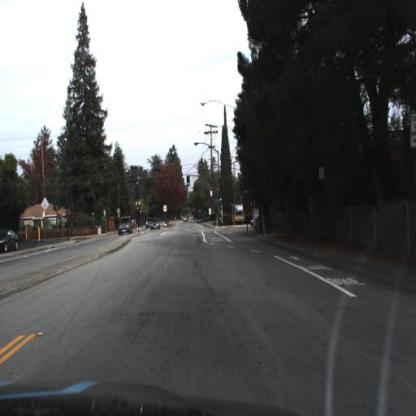car: (117, 215, 133, 239), (150, 220, 164, 235), (248, 214, 260, 230)
trafficLight-Green: (186, 176, 194, 194), (219, 191, 224, 207)
trafficLight-RedLeft: (135, 203, 143, 217)
